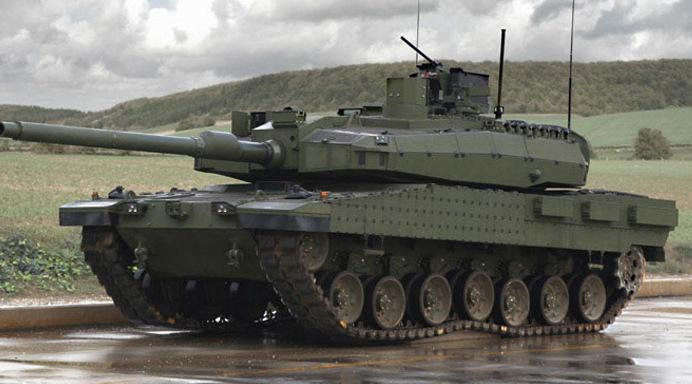tank: (0, 27, 682, 339)
